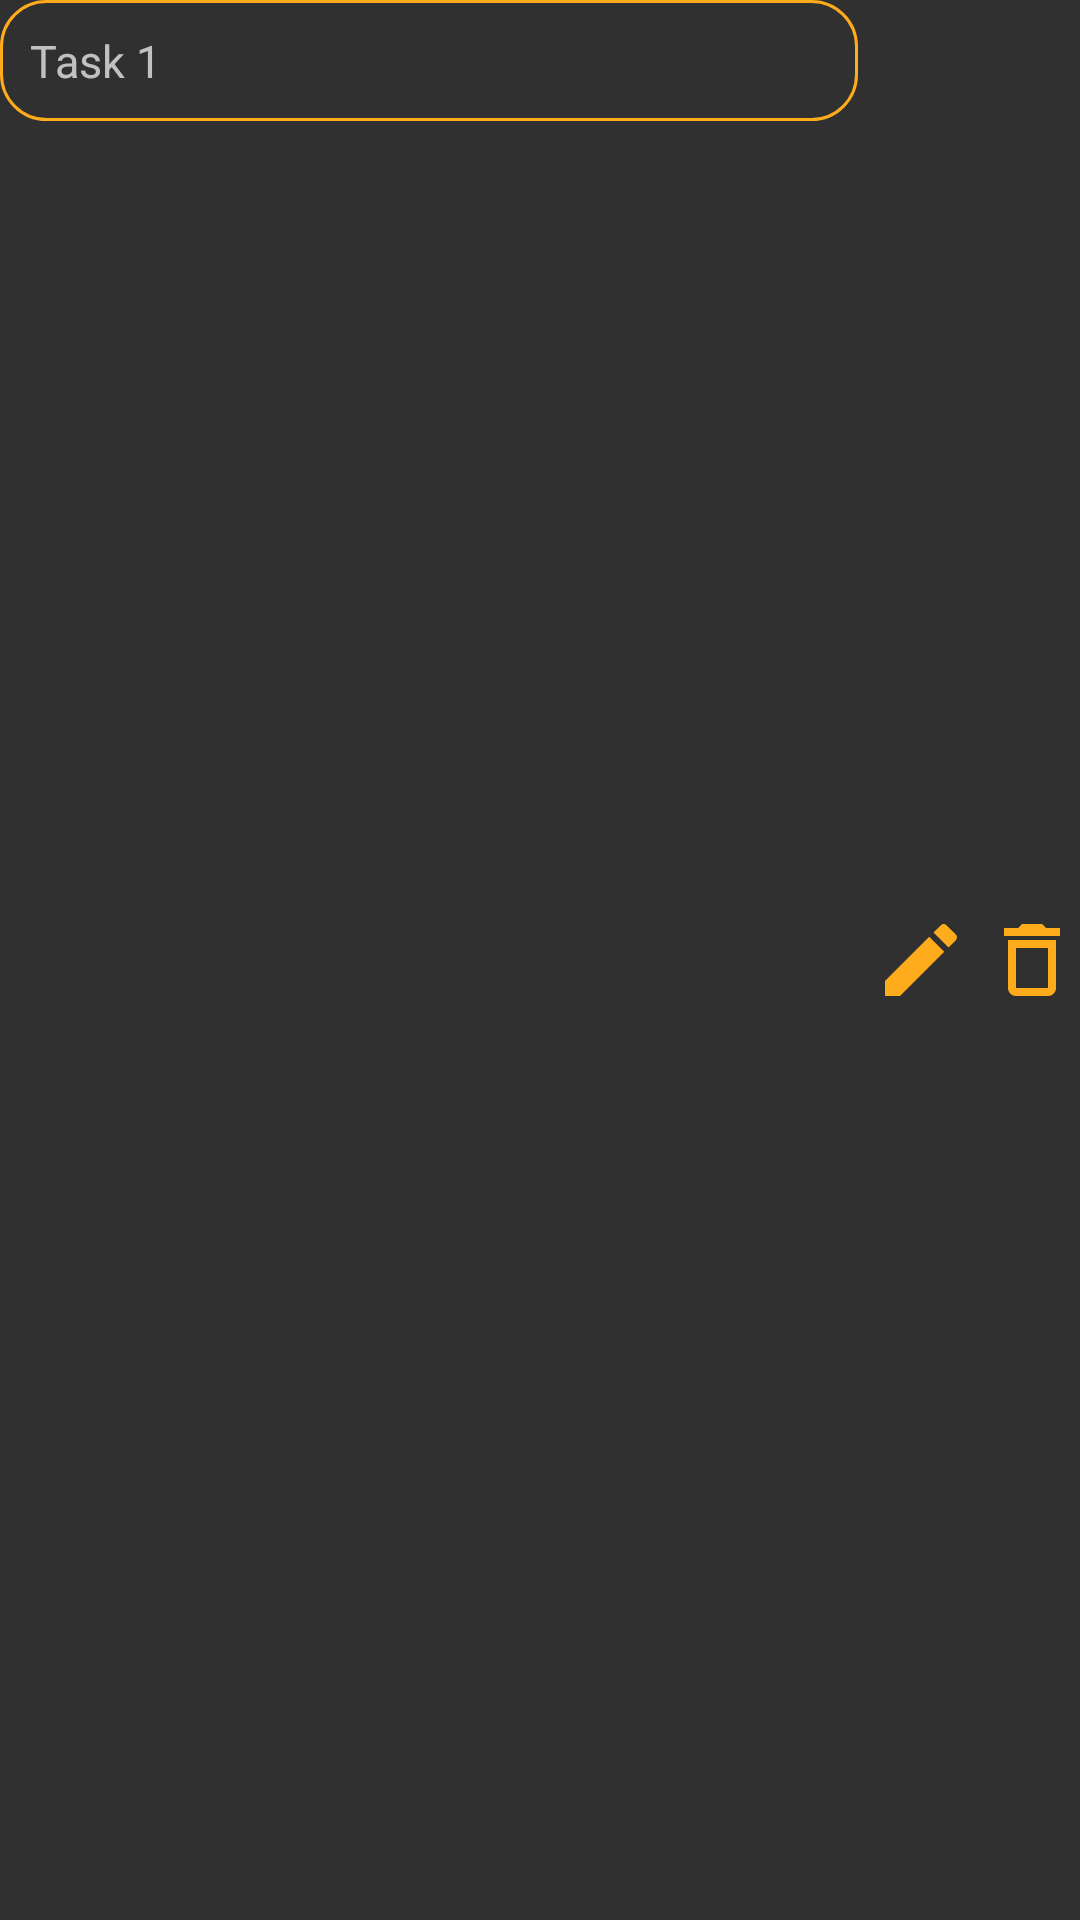

Screen size 1080*1920. Icon name, then its center in pixels as point (x, y):
delete: point (1032, 960)
edit: point (921, 960)
